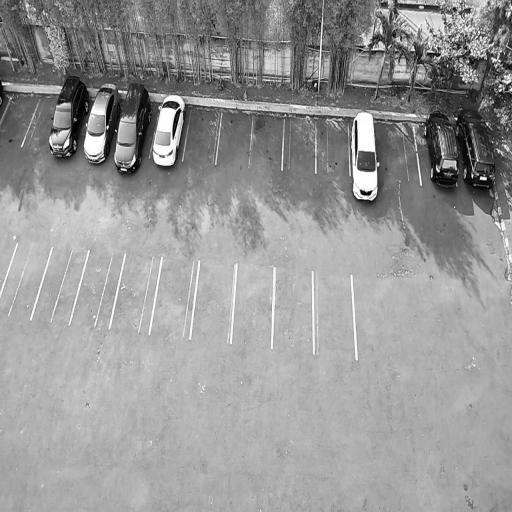Car: (451, 94, 502, 194), (110, 76, 158, 175), (76, 75, 126, 168), (44, 70, 94, 161), (419, 104, 464, 190), (147, 84, 192, 168), (349, 105, 384, 202)
Space Available: (31, 243, 89, 323), (69, 247, 125, 326), (109, 253, 162, 331), (0, 242, 52, 320), (313, 269, 358, 359), (150, 257, 200, 337), (190, 259, 237, 341), (230, 262, 275, 346), (272, 266, 314, 351), (183, 107, 223, 164), (0, 92, 41, 147), (216, 111, 254, 167), (250, 112, 284, 170), (317, 118, 350, 176), (22, 95, 58, 146), (283, 116, 315, 172)
